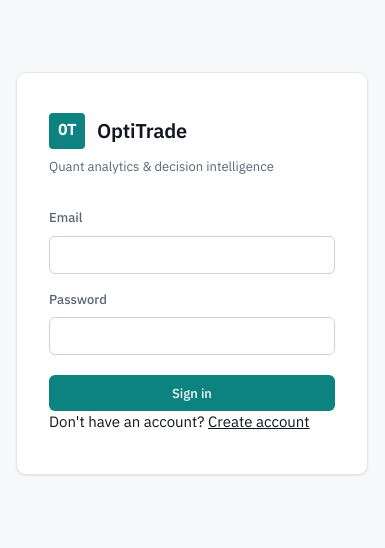
Sign in / Create account navigation › links from the login page to /register and back
Expected: the button "Sign in" is shown, [49,375,335,411]
Click the link "Create account": (259, 422) [208,412,310,431]
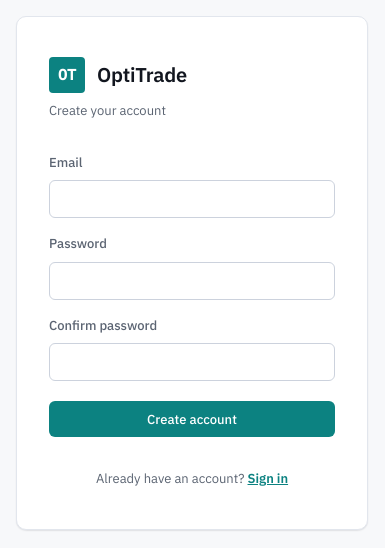
Now the button "Create account" is shown, box [49,401,335,437]
